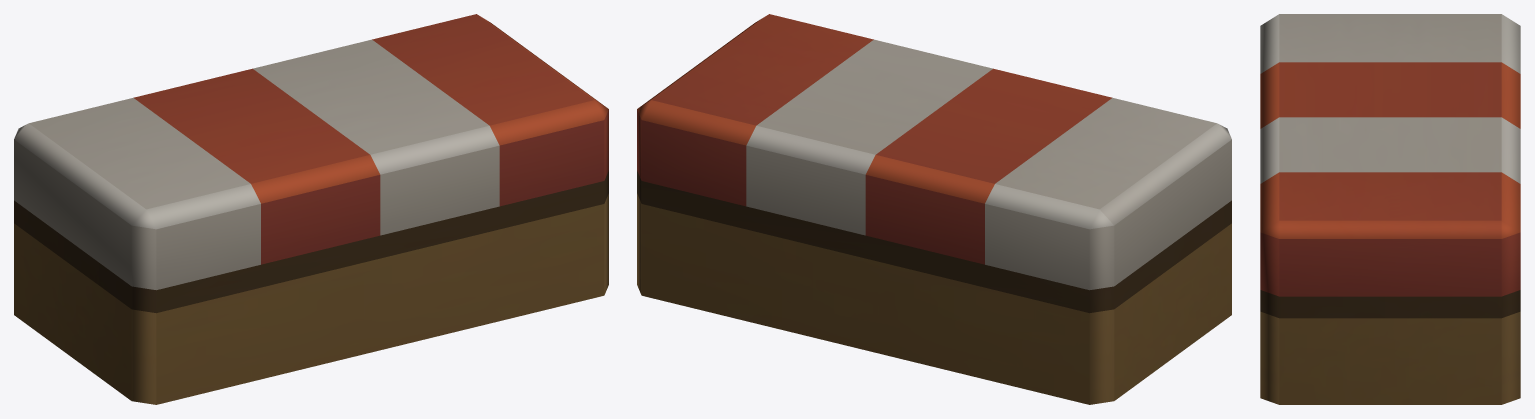
Rendered from chair_roof_footrest_x2_red_white.fbx.
3 views of the same model, side by side, from view 1: azimuth 30°, elevation 25°; view 2: azimuth 150°, elevation 25°; view 3: azimuth 270°, elevation 25° (orthographic). The views are drawn at different scales.
Parts seen in each view (by area): view 1: chair_roof_footrest_x2_red_white; view 2: chair_roof_footrest_x2_red_white; view 3: chair_roof_footrest_x2_red_white.
Part boxes in pixels (x1=…): chair_roof_footrest_x2_red_white: x1=14, y1=14, x2=608, y2=404; chair_roof_footrest_x2_red_white: x1=637, y1=14, x2=1231, y2=404; chair_roof_footrest_x2_red_white: x1=1260, y1=14, x2=1520, y2=404.
Size of the model in its own units: 100 by 37.68 by 50.
